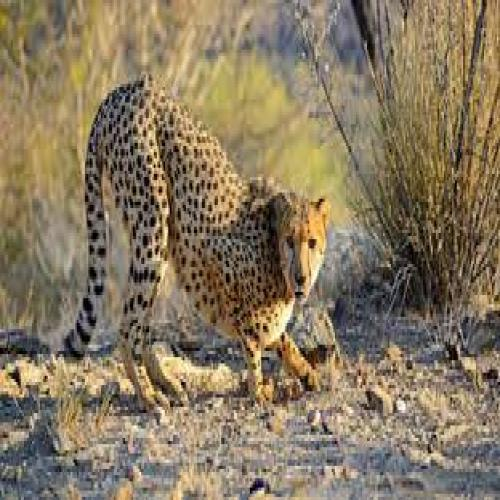cheetah-endangered: (65, 75, 333, 412)
